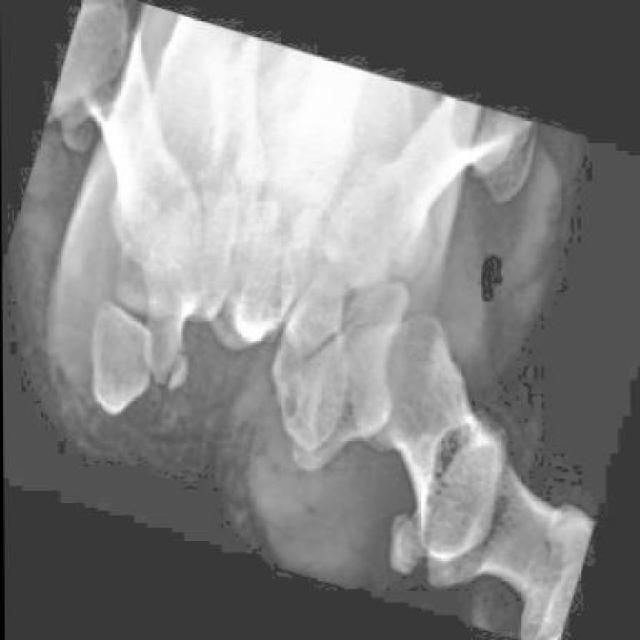Fracture: (152, 346, 198, 399)
